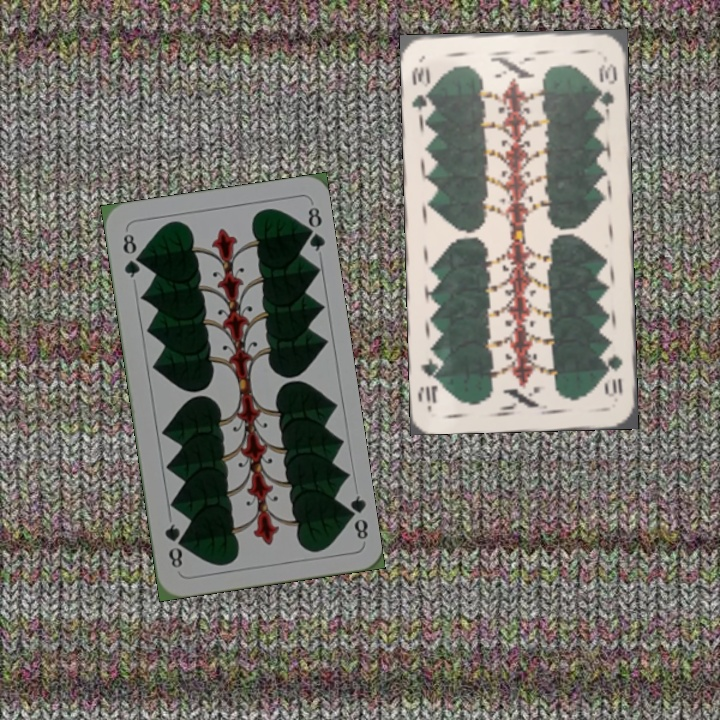G10: (407, 63, 435, 113), (601, 350, 625, 399)
G8: (340, 491, 371, 542), (119, 229, 144, 281)
